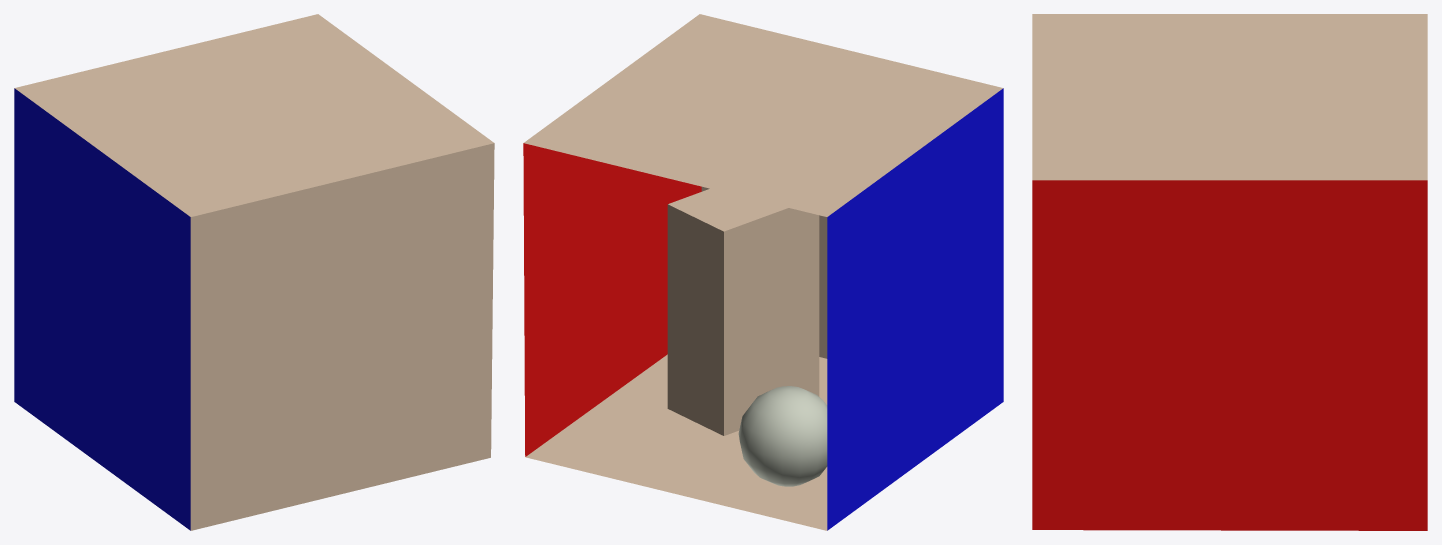
Rendered from cbox.obj.
3 views of the same model, side by side, from view 1: azimuth 30°, elevation 25°; view 2: azimuth 150°, elevation 25°; view 3: azimuth 270°, elevation 25° (orthographic). The views are drawn at different scales.
Visible parts, largest first — view 1: cbox:cbox_back_mesh, cbox:cbox_greenwall_mesh, cbox:cbox_ceiling_mesh; view 2: cbox:cbox_greenwall_mesh, cbox:cbox_ceiling_mesh, cbox:cbox_redwall_mesh, Cube, cbox:cbox_floor_mesh, Sphere, cbox:cbox_back_mesh; view 3: cbox:cbox_redwall_mesh, cbox:cbox_ceiling_mesh.
Boxes of the visible parts, <box> form: cbox:cbox_back_mesh: <box>190,143,494,530</box>; cbox:cbox_greenwall_mesh: <box>14,88,190,530</box>; cbox:cbox_ceiling_mesh: <box>14,14,493,216</box>; cbox:cbox_greenwall_mesh: <box>827,88,1003,530</box>; cbox:cbox_ceiling_mesh: <box>524,14,1003,216</box>; cbox:cbox_redwall_mesh: <box>523,143,701,456</box>; Cube: <box>667,188,819,435</box>; cbox:cbox_floor_mesh: <box>525,354,827,530</box>; Sphere: <box>738,386,827,486</box>; cbox:cbox_back_mesh: <box>701,186,827,358</box>; cbox:cbox_redwall_mesh: <box>1032,180,1427,530</box>; cbox:cbox_ceiling_mesh: <box>1032,14,1427,180</box>.
Size of the model in its own units: 556 by 549 by 559.
